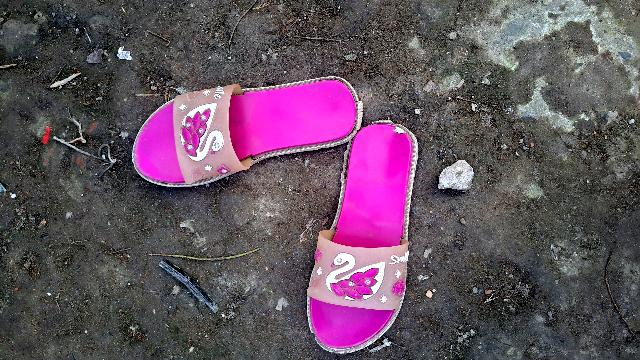sandal: (114, 43, 373, 188), (288, 96, 428, 360)
